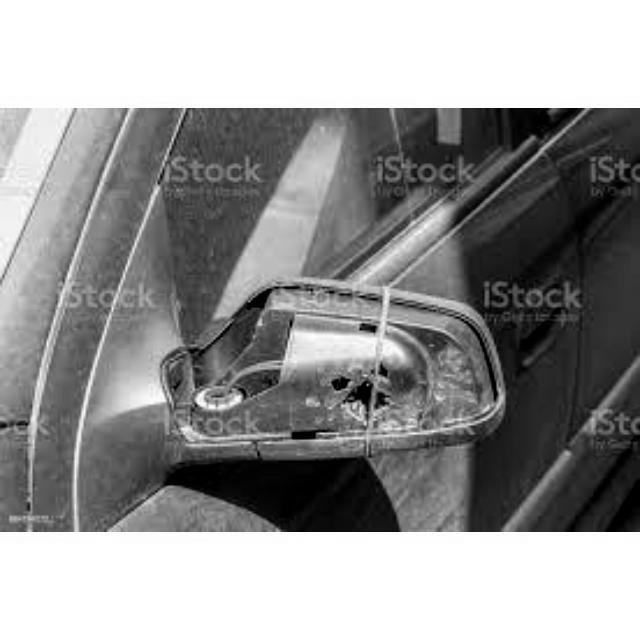Sidemirror-Damage: (139, 269, 521, 486)
